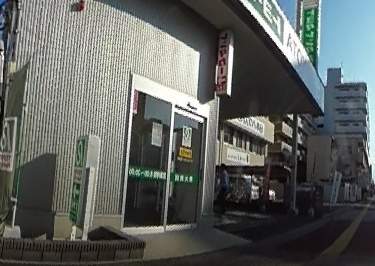person: (215, 162, 232, 213)
